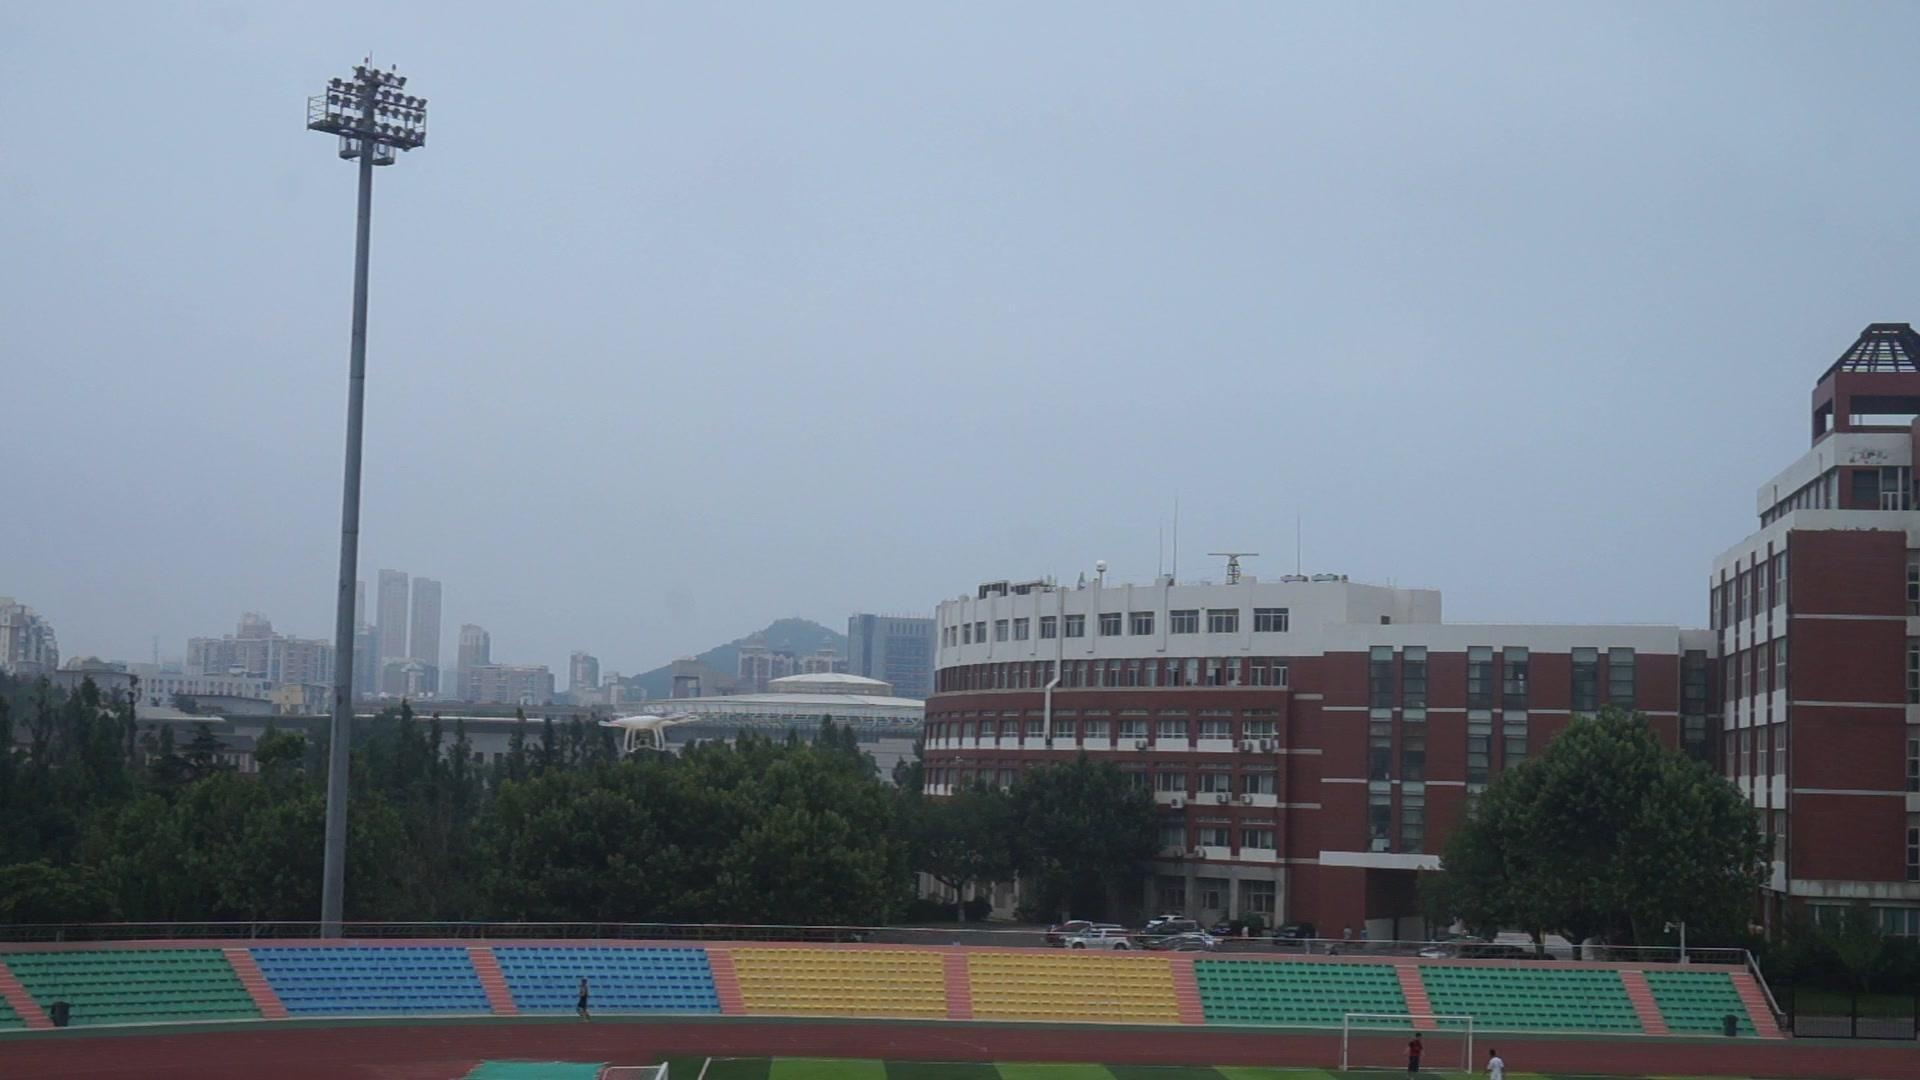UAV: (599, 713, 699, 754)
